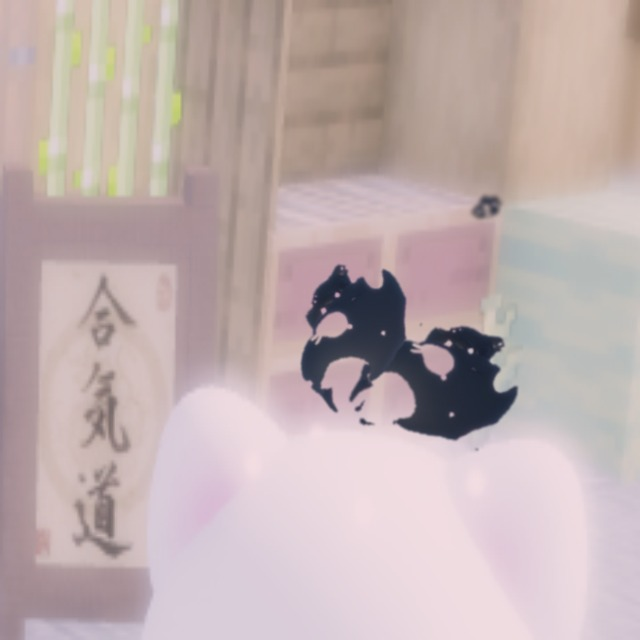urso_preto: (248, 219, 458, 452), (322, 301, 550, 468), (465, 189, 505, 227)
